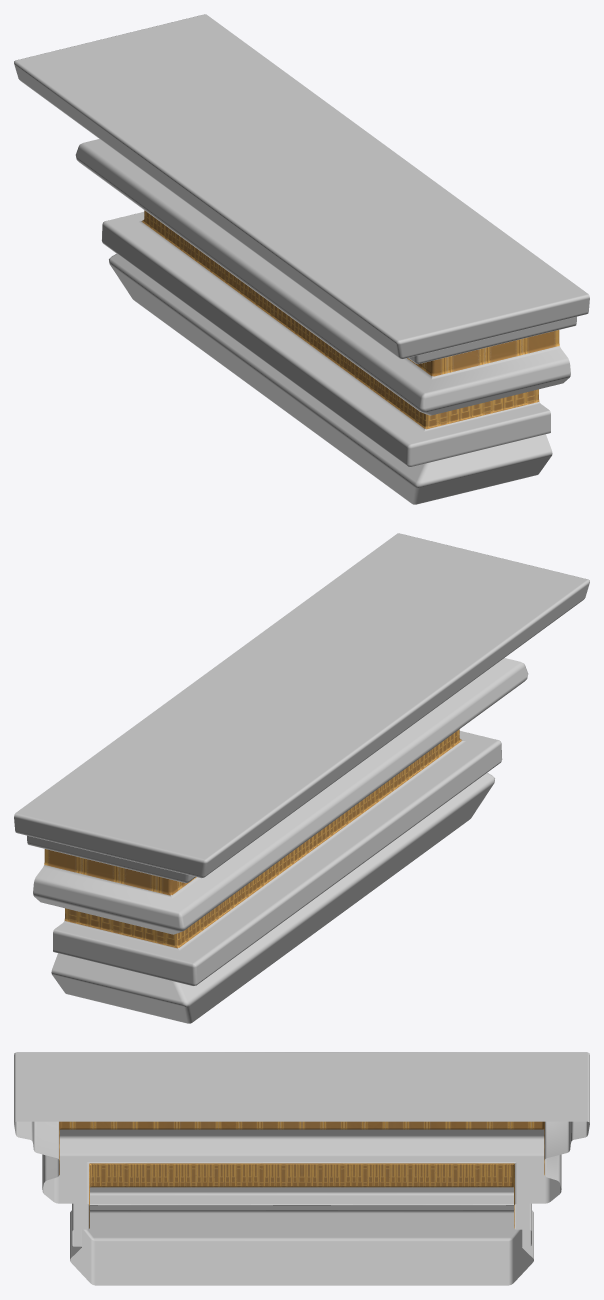
Rendered from SM_DecorativeBeam_01.fbx.
3 views of the same model, one above another, from view 1: azimuth 30°, elevation 25°; view 2: azimuth 150°, elevation 25°; view 3: azimuth 270°, elevation 25° (orthographic). The views are drawn at different scales.
Visible parts, largest first — view 1: SM_DecorativeBeam_01_LOD0; view 2: SM_DecorativeBeam_01_LOD0; view 3: SM_DecorativeBeam_01_LOD0.
Part boxes in pixels (x1=…): SM_DecorativeBeam_01_LOD0: x1=14, y1=14, x2=589, y2=504; SM_DecorativeBeam_01_LOD0: x1=14, y1=533, x2=589, y2=1023; SM_DecorativeBeam_01_LOD0: x1=14, y1=1052, x2=589, y2=1285.
Bounding box in the file's own units: 119 × 412 × 129.
